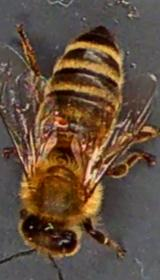varroa_mite: (50, 110, 74, 134)
